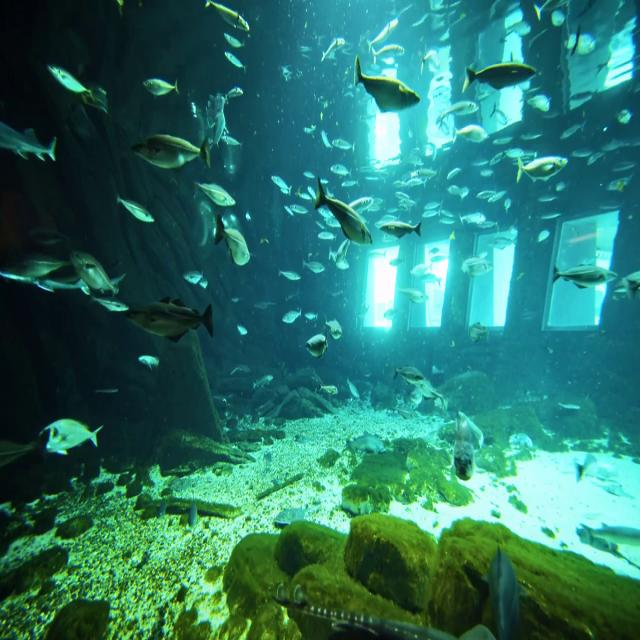fish: (123, 285, 219, 357), (125, 111, 217, 178), (345, 56, 424, 120), (39, 55, 114, 116), (480, 538, 524, 640), (66, 234, 125, 310), (312, 177, 374, 248), (0, 101, 61, 172), (2, 236, 77, 291), (461, 46, 537, 98), (34, 403, 101, 460), (552, 248, 616, 301), (207, 209, 253, 271), (429, 91, 488, 133), (515, 147, 572, 190), (191, 165, 241, 209), (377, 205, 425, 248), (108, 188, 159, 228), (204, 0, 253, 37), (316, 28, 350, 74), (363, 11, 401, 50), (139, 70, 183, 103), (454, 114, 490, 148), (304, 322, 334, 362), (562, 30, 598, 59), (325, 301, 346, 348), (524, 88, 555, 119), (394, 364, 426, 392)
